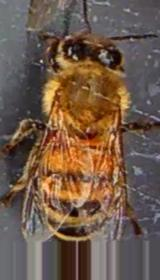varroa_mite: (38, 120, 74, 152)
